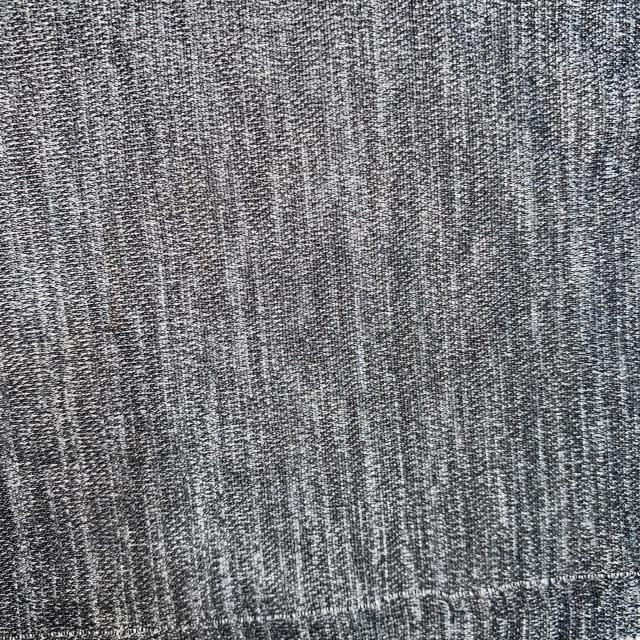Line: (0, 567, 640, 640)
